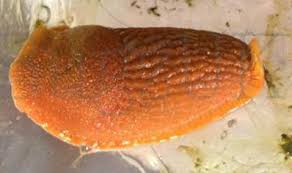slug: (13, 17, 266, 145)
